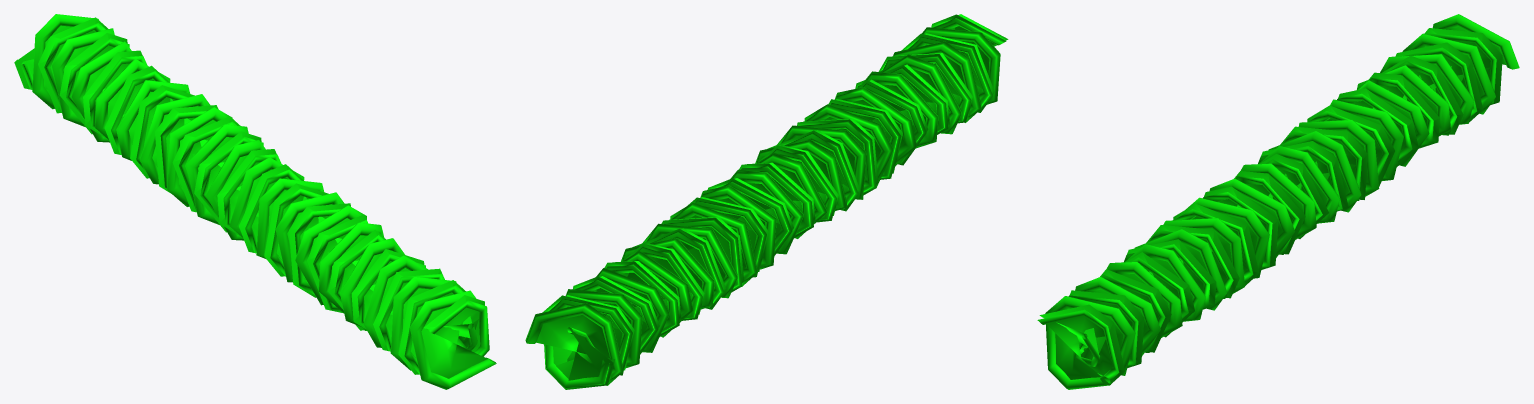
File: uuon-dna-vortex.glb
3 views of the same model, side by side, from view 1: azimuth 30°, elevation 25°; view 2: azimuth 150°, elevation 25°; view 3: azimuth 330°, elevation 25° (orthographic).
Bounding box in the file's own units: 2.31 × 2.29 × 18.3.
